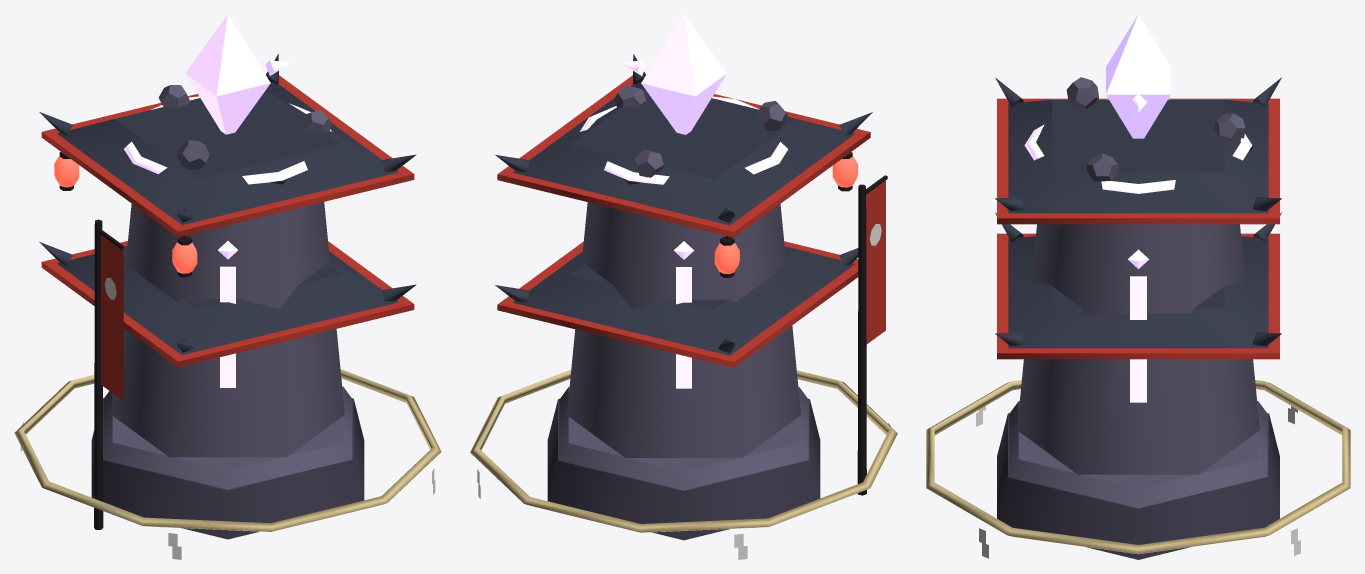
Rendered from tower_element.glb.
3 renders of one model, left to right at view 1: azimuth 30°, elevation 25°; view 2: azimuth 150°, elevation 25°; view 3: azimuth 270°, elevation 25°, orthographic. The views are drawn at different scales.
Visible parts, largest first — view 1: pillar, deco_eave_0_roof, base, deco_eave_1_roof, base_top, deco_shimenawa_rope, deco_eave_0_rim, crystal, deco_eave_1_rim, deco_nobori_cloth, deco_nobori_pole, aura (+6 smaller); view 2: pillar, deco_eave_0_roof, deco_eave_1_roof, base, base_top, deco_shimenawa_rope, deco_eave_0_rim, deco_eave_1_rim, crystal, deco_nobori_cloth, deco_nobori_pole, aura (+6 smaller); view 3: pillar, deco_eave_0_roof, deco_eave_1_roof, base, base_top, deco_shimenawa_rope, deco_eave_0_rim, deco_eave_1_rim, crystal, aura, rune_0, cap_ring (+2 smaller).
Part boxes in pixels (box(x1,y1,x2,y2)): pillar: box(111, 202, 344, 457); deco_eave_0_roof: box(57, 81, 398, 225); base: box(91, 398, 364, 539); deco_eave_1_roof: box(57, 246, 398, 355); base_top: box(103, 386, 352, 489); deco_shimenawa_rope: box(14, 369, 441, 531); deco_eave_0_rim: box(41, 75, 414, 237); crystal: box(185, 14, 270, 134); deco_eave_1_rim: box(41, 241, 414, 367); deco_nobori_cloth: box(101, 235, 123, 400); deco_nobori_pole: box(94, 219, 103, 529); aura: box(158, 85, 331, 169); pillar: box(567, 202, 800, 457); deco_eave_0_roof: box(513, 81, 854, 225); deco_eave_1_roof: box(513, 246, 854, 355); base: box(547, 398, 820, 540); base_top: box(559, 387, 808, 490); deco_shimenawa_rope: box(470, 370, 897, 532); deco_eave_0_rim: box(497, 75, 870, 237); deco_eave_1_rim: box(497, 241, 858, 367); crystal: box(641, 14, 726, 134); deco_nobori_cloth: box(866, 180, 885, 344); deco_nobori_pole: box(857, 184, 866, 495); aura: box(614, 85, 787, 177); pillar: box(1017, 224, 1259, 474); deco_eave_0_roof: box(1008, 100, 1268, 213); deco_eave_1_roof: box(1008, 236, 1268, 348); base: box(997, 413, 1279, 559); base_top: box(1009, 400, 1267, 508); deco_shimenawa_rope: box(926, 380, 1350, 554); deco_eave_0_rim: box(997, 98, 1279, 224); deco_eave_1_rim: box(997, 233, 1279, 359); crystal: box(1106, 14, 1170, 138); aura: box(1066, 77, 1245, 181); rune_0: box(1130, 276, 1146, 402); cap_ring: box(1024, 99, 1252, 193).
Bounding box in the file's own units: 0.5326 × 0.628 × 0.5066.
